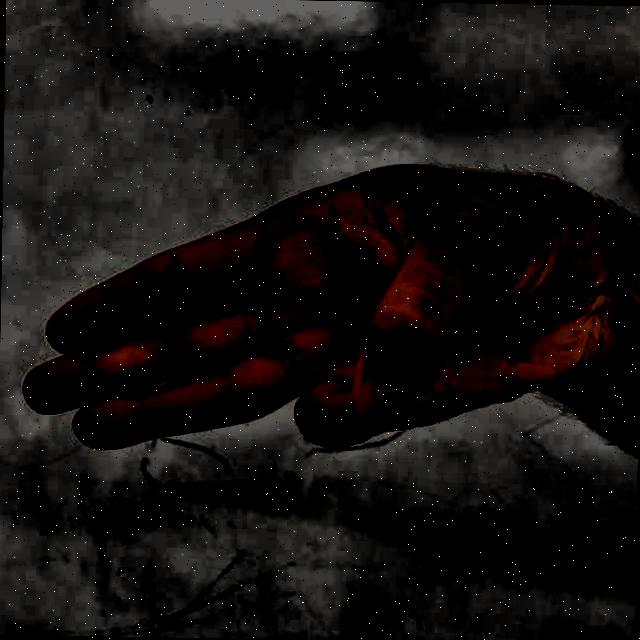Ma: (26, 147, 626, 530)
